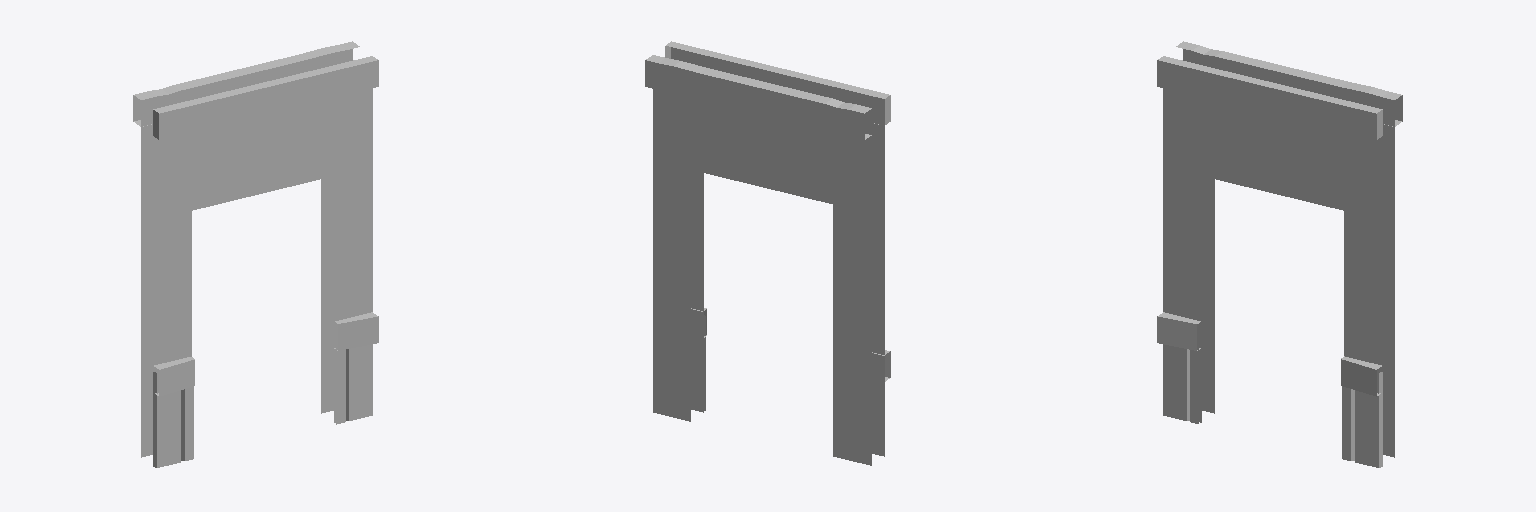
The model's file is Wall_WoodBrick_Door_Flat.obj.
3 views of the same model, side by side, from view 1: azimuth 30°, elevation 25°; view 2: azimuth 150°, elevation 25°; view 3: azimuth 330°, elevation 25° (orthographic).
Parts seen in each view (by area): view 1: Wall_WoodBrick_Door_Flat; view 2: Wall_WoodBrick_Door_Flat; view 3: Wall_WoodBrick_Door_Flat.
Part boxes in pixels (x1,y1,x2,y2): Wall_WoodBrick_Door_Flat: (133, 41, 378, 467); Wall_WoodBrick_Door_Flat: (645, 41, 890, 465); Wall_WoodBrick_Door_Flat: (1157, 41, 1402, 467).
Bounding box in the file's own units: 2 × 3.12 × 0.4065.